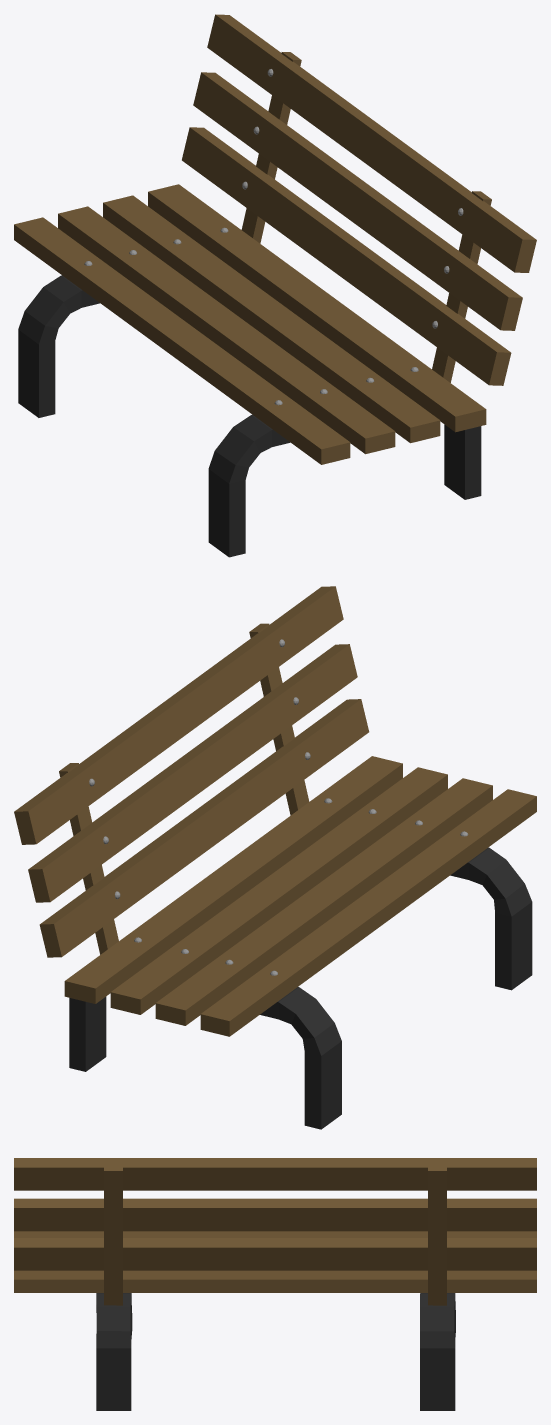
Rendered from BenchV2.fbx.
3 renders of one model, top to bottom at view 1: azimuth 30°, elevation 25°; view 2: azimuth 150°, elevation 25°; view 3: azimuth 270°, elevation 25°, orthographic. The views are drawn at different scales.
Parts seen in each view (by area): view 1: Cube.009, Cube.008, Cube.010, Cube.005, Cube.002, Cube.004, Cube.003, Cube.001, Cube.006, Cube, Cube.007; view 2: Cube.009, Cube.008, Cube.010, Cube.005, Cube.002, Cube.003, Cube.004, Cube.006, Cube.001, Cube, Cube.007; view 3: Cube.009, Cube.010, Cube.008, Cube.005, Cube.001, Cube.006, Cube.003, Cube, Cube.007.
Boxes of the visible parts, x1,y1,x2,y2 form: Cube.009: [193, 72, 522, 330]; Cube.008: [182, 127, 511, 385]; Cube.010: [207, 14, 536, 272]; Cube.005: [148, 184, 486, 432]; Cube.002: [14, 217, 350, 464]; Cube.004: [103, 195, 440, 443]; Cube.003: [58, 206, 395, 454]; Cube.001: [208, 414, 481, 557]; Cube.006: [18, 275, 99, 417]; Cube: [432, 191, 491, 382]; Cube.007: [241, 52, 301, 243]; Cube.009: [28, 644, 357, 902]; Cube.008: [39, 699, 369, 957]; Cube.010: [14, 586, 343, 844]; Cube.005: [64, 756, 402, 1003]; Cube.002: [200, 789, 536, 1036]; Cube.003: [155, 778, 492, 1025]; Cube.004: [110, 767, 447, 1014]; Cube.006: [69, 987, 341, 1129]; Cube.001: [450, 847, 532, 990]; Cube: [249, 623, 309, 815]; Cube.007: [59, 763, 118, 954]; Cube.009: [14, 1198, 536, 1231]; Cube.010: [14, 1158, 536, 1190]; Cube.008: [14, 1238, 536, 1270]; Cube.005: [14, 1270, 536, 1292]; Cube.001: [96, 1293, 132, 1410]; Cube.006: [420, 1293, 455, 1410]; Cube.003: [14, 1231, 536, 1237]; Cube: [104, 1165, 122, 1305]; Cube.007: [428, 1165, 446, 1305].
Bounding box in the file's own units: 324 × 341 × 646.
